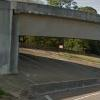Bridge: (10, 0, 92, 51)
